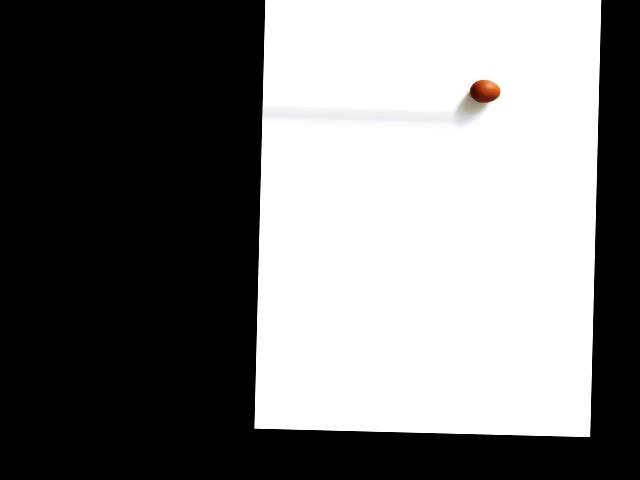egg: (469, 79, 500, 102)
